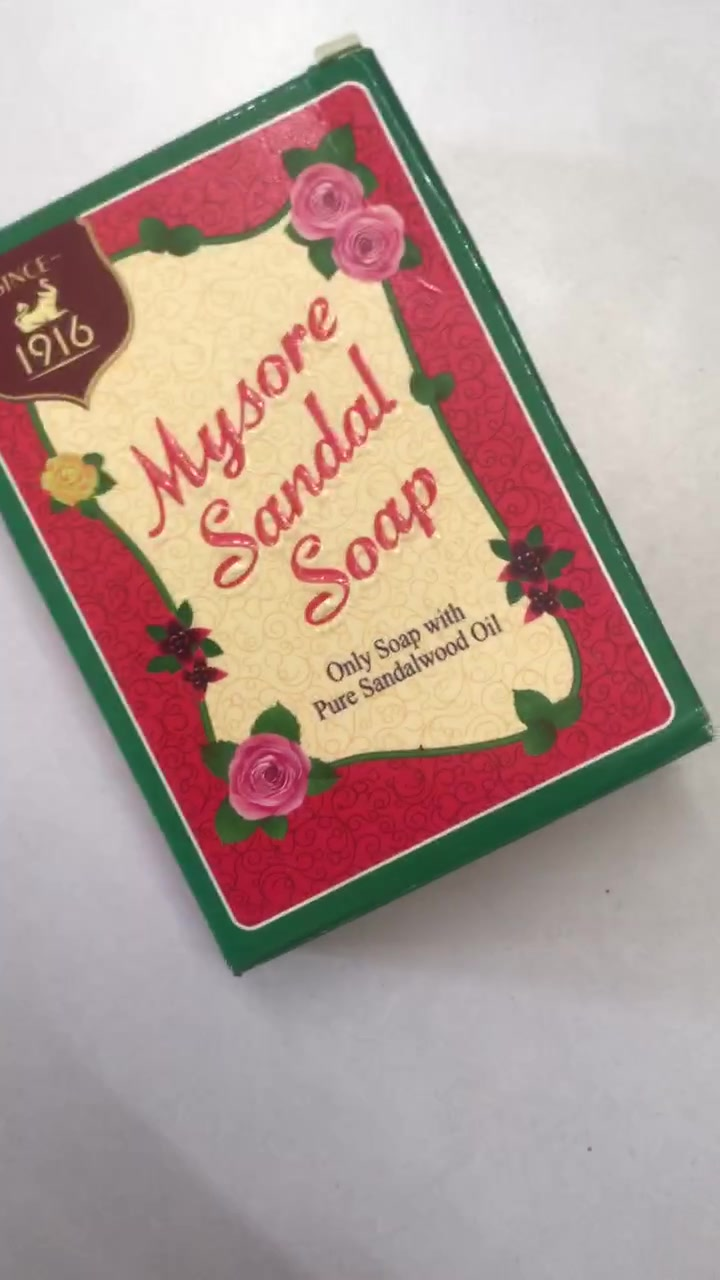mysore sandal soap: (1, 50, 709, 980)
